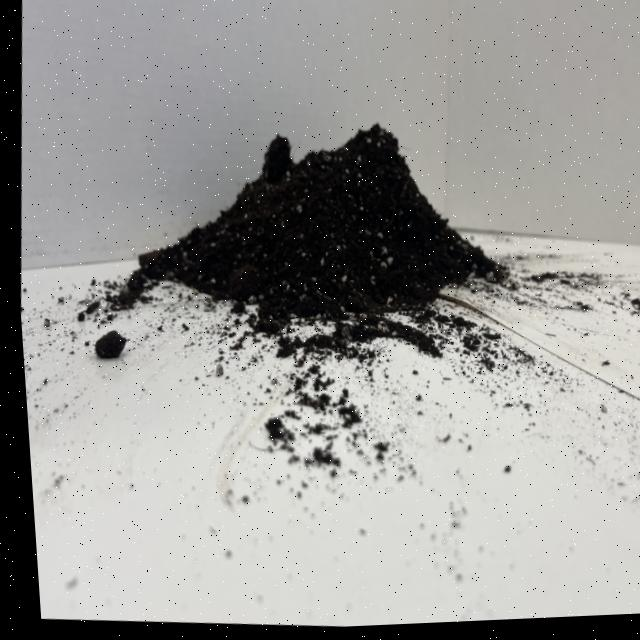soil: (112, 96, 525, 357)
